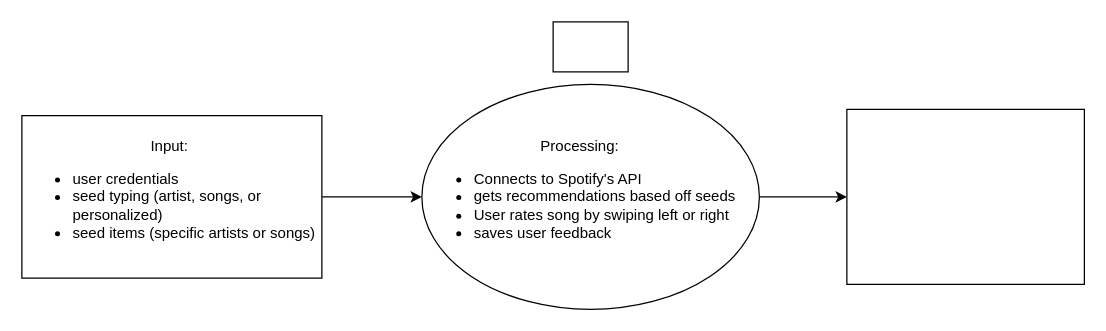
Some shapes in this 1106 by 331 pixel diagram are drawn without their labels. The shapes that lost their labels are listed below. From the top down, each one's centre as x and y in pixels, then its label:
the point at 590,46: D0
the point at 965,196: Output: song recommendations playlist user statistics
